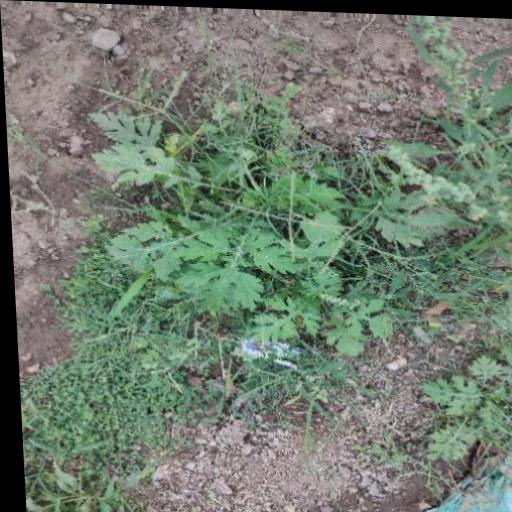weed: (93, 111, 454, 395), (409, 332, 512, 483)
